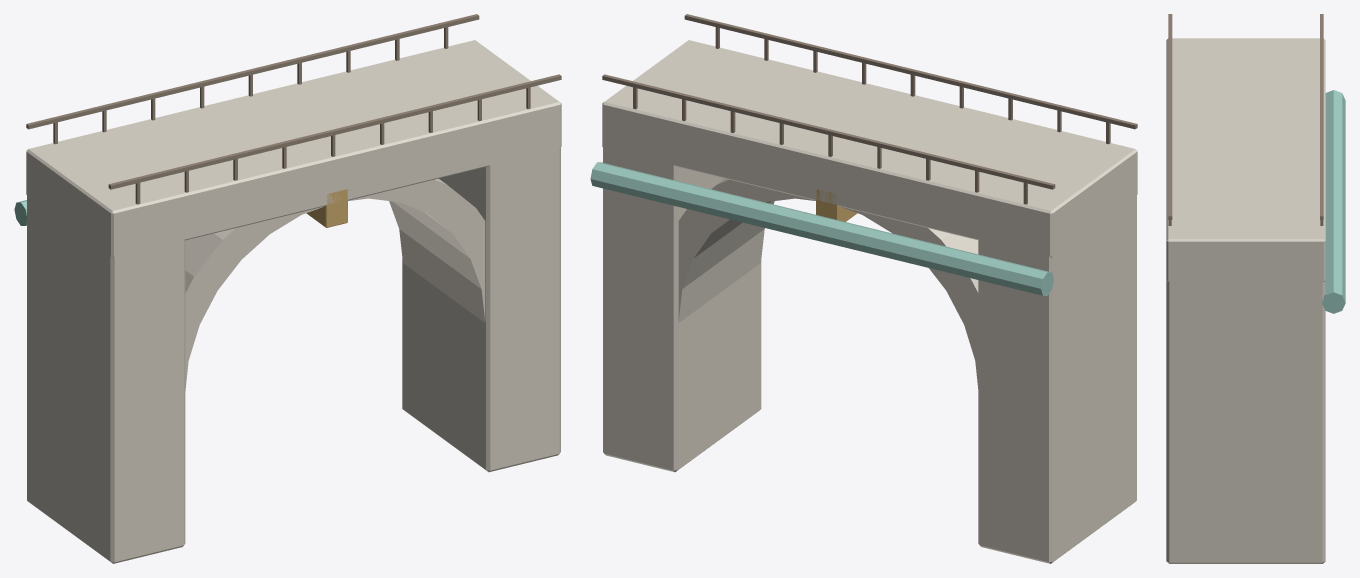
The model's file is Cite_Arche.fbx.
3 views of the same model, side by side, from view 1: azimuth 30°, elevation 25°; view 2: azimuth 150°, elevation 25°; view 3: azimuth 270°, elevation 25° (orthographic). The views are drawn at different scales.
Visible parts, largest first — view 1: Cite_Arche_Pierre, Cite_Arche_Fer, Cite_Arche_Laiton; view 2: Cite_Arche_Pierre, Cite_Arche_Cuivre, Cite_Arche_Fer, Cite_Arche_Laiton; view 3: Cite_Arche_Pierre, Cite_Arche_Cuivre, Cite_Arche_Fer.
Boxes of the visible parts, x1,y1,x2,y2 form: Cite_Arche_Pierre: (26,40,561,563); Cite_Arche_Fer: (26,14,561,204); Cite_Arche_Laiton: (306,189,347,227); Cite_Arche_Pierre: (602,40,1137,563); Cite_Arche_Cuivre: (590,162,1053,295); Cite_Arche_Fer: (602,14,1137,204); Cite_Arche_Laiton: (816,189,857,221); Cite_Arche_Pierre: (1166,38,1325,563); Cite_Arche_Cuivre: (1322,90,1345,313); Cite_Arche_Fer: (1168,14,1323,225).
Size of the model in its own units: 24 by 19.3 by 9.
